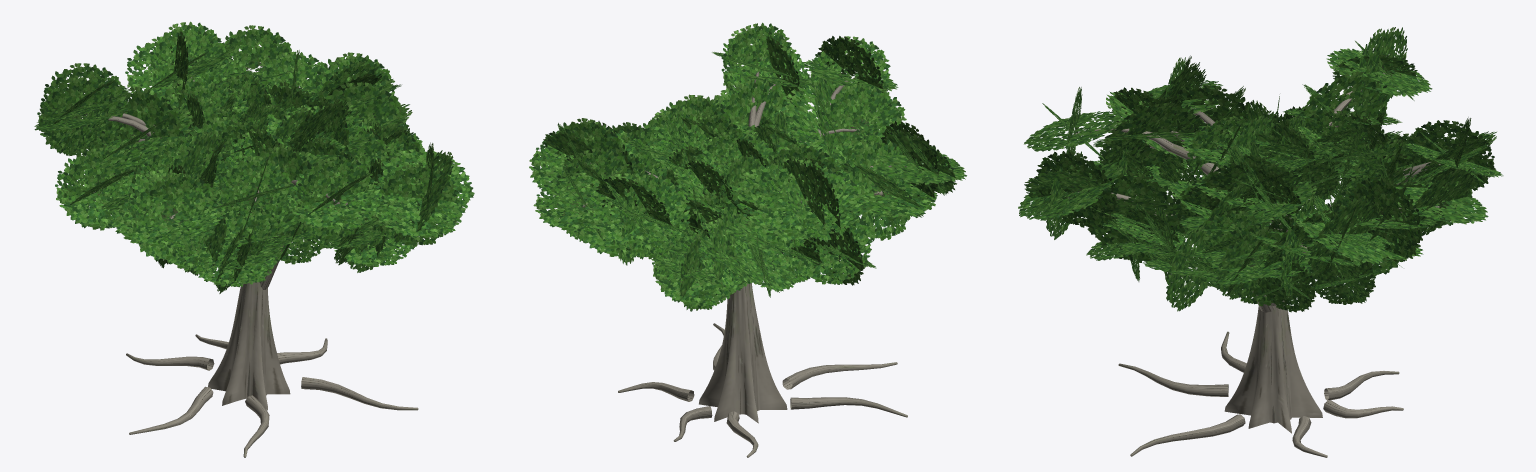
3 views of the same model, side by side, from view 1: azimuth 30°, elevation 25°; view 2: azimuth 150°, elevation 25°; view 3: azimuth 270°, elevation 25° (orthographic). The views are drawn at different scales.
Parts seen in each view (by area): view 1: BigTree-forest-f; view 2: BigTree-forest-f; view 3: BigTree-forest-f.
Part boxes in pixels (x1,y1,x2,y2): BigTree-forest-f: [34, 21, 474, 457]; BigTree-forest-f: [529, 22, 966, 457]; BigTree-forest-f: [1018, 27, 1503, 457].
Bounding box in the file's own units: 26.24 × 21 × 29.74.
1 material, 1 textured.
